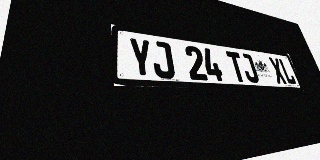2: (184, 45, 208, 80)
4: (201, 47, 224, 81)
J: (150, 40, 176, 79), (239, 53, 260, 83)
L: (278, 58, 297, 84)
T: (226, 51, 248, 82)
X: (268, 57, 288, 84)
Y: (128, 37, 154, 78)
